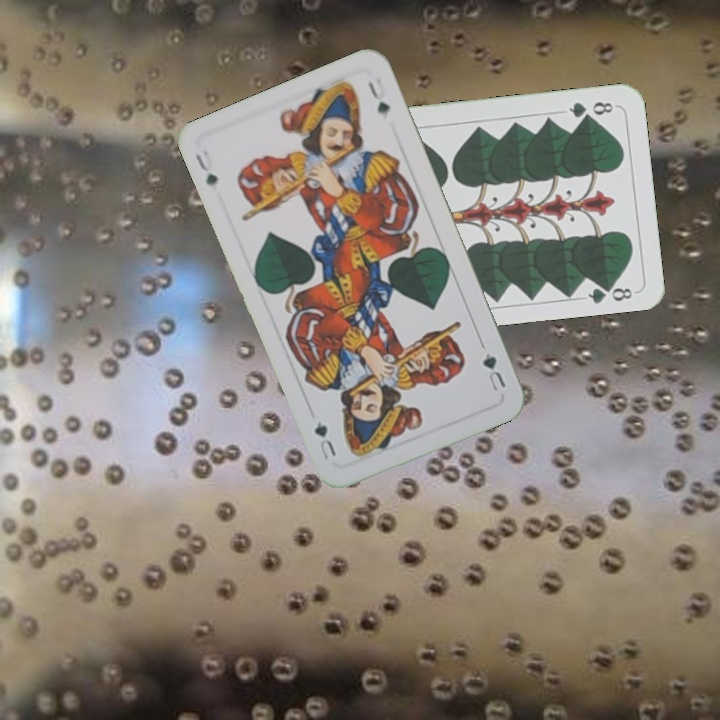G8: (565, 97, 616, 122)
GU: (477, 340, 509, 394), (191, 150, 221, 190)
